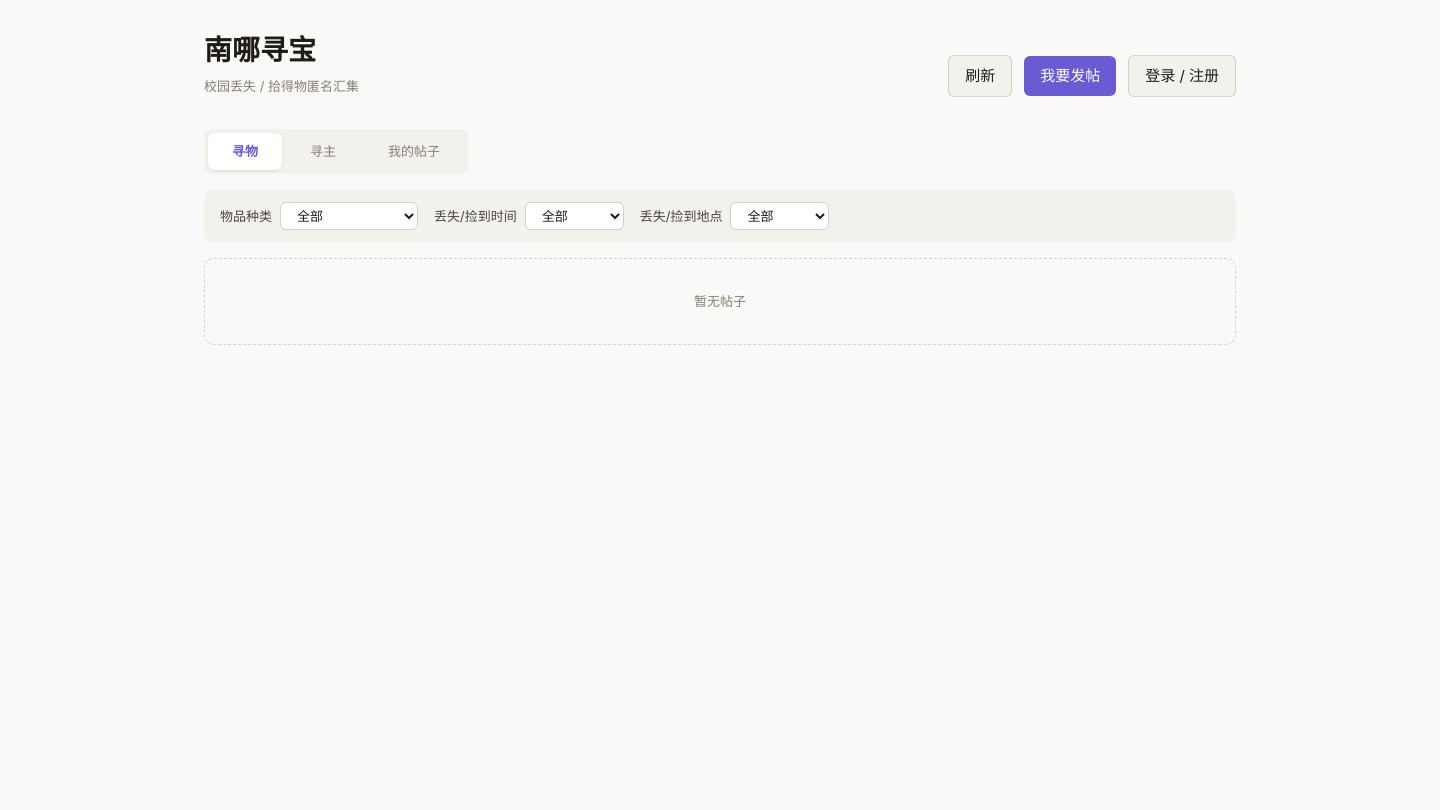
App homepage listing › 未登录点击 我要发帖 弹出 AuthDialog
Click the button with test id "btn-create" at [1070, 76], box [1024,56,1116,96]
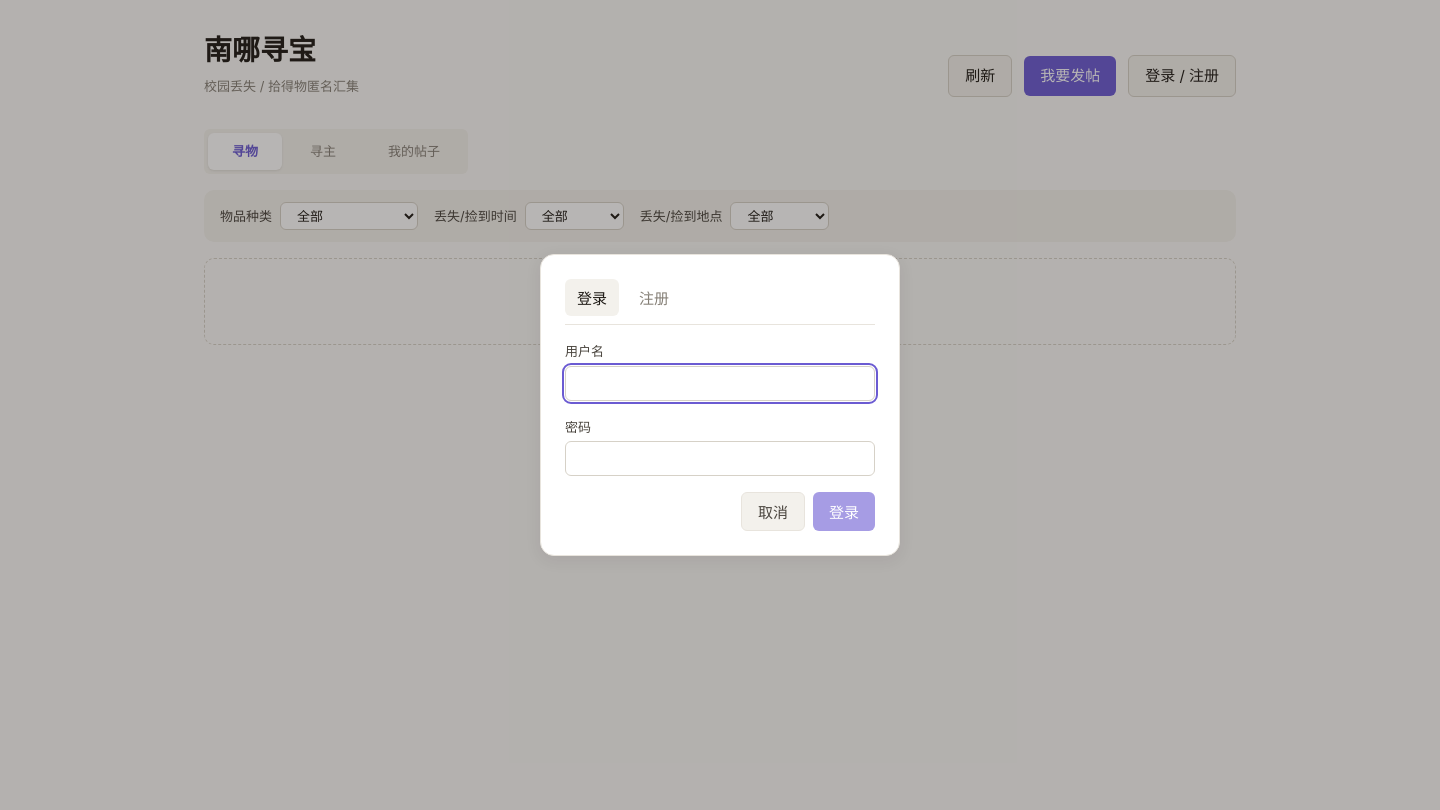
Now the element showing "登录 注册 用户名 密码 取消 登录" is shown
